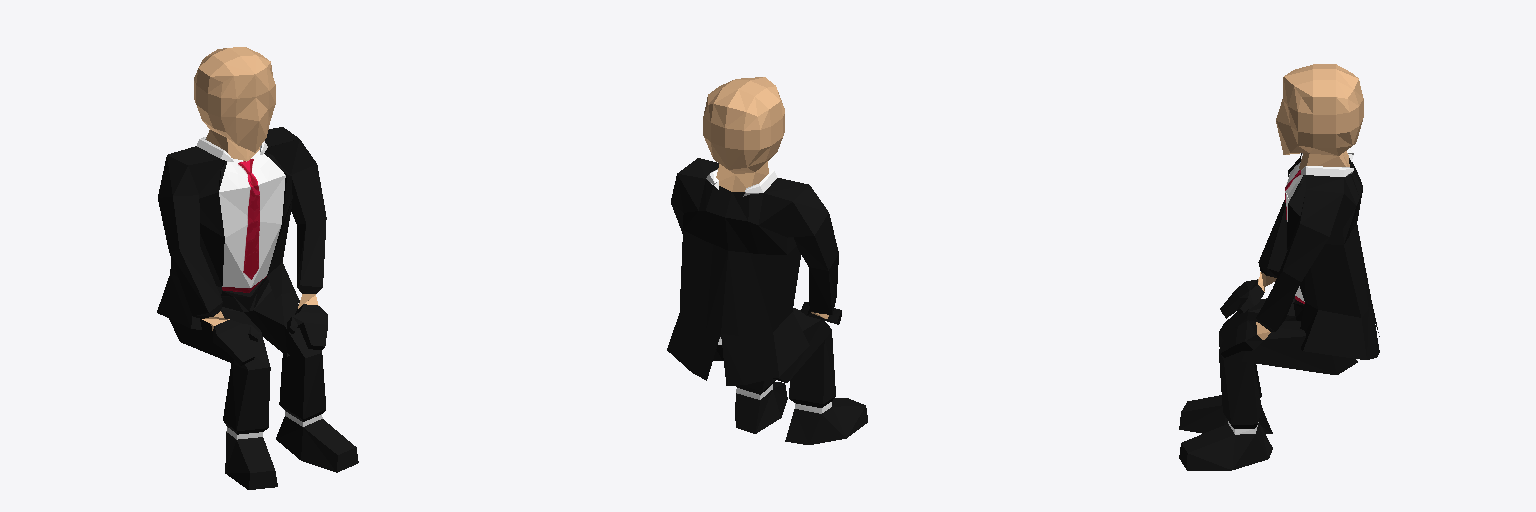
3 renders of one model, left to right at view 1: azimuth 30°, elevation 25°; view 2: azimuth 150°, elevation 25°; view 3: azimuth 270°, elevation 25°, orthographic.
Parts seen in each view (by area): view 1: Body_Cube; view 2: Body_Cube; view 3: Body_Cube.
Part boxes in pixels (x1,y1,x2,y2): Body_Cube: (157,47,358,489); Body_Cube: (667,77,867,444); Body_Cube: (1179,64,1379,470).
Bounding box in the file's own units: 4.51 × 10.94 × 5.34.
Materials: 1 (1 with a texture image).